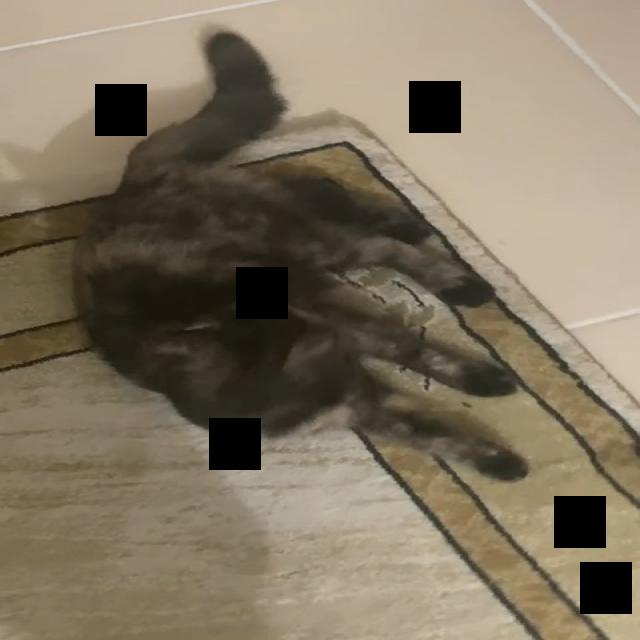authorized: (68, 23, 532, 483)
